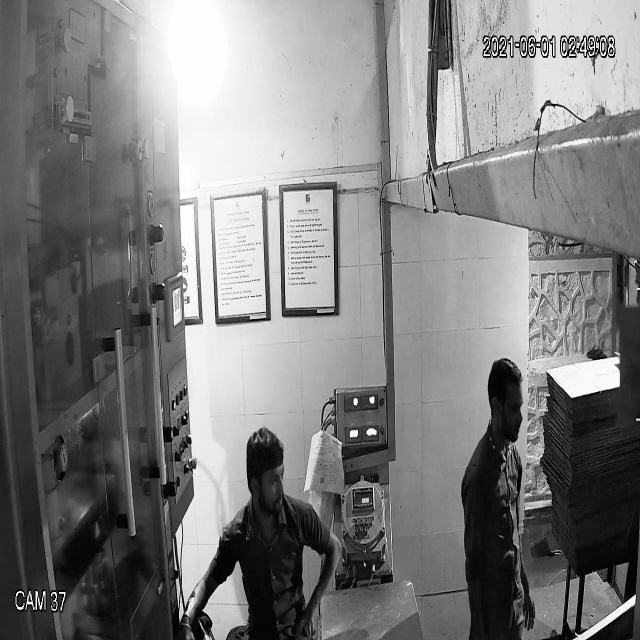Sin_gafas: (243, 460, 290, 498)
